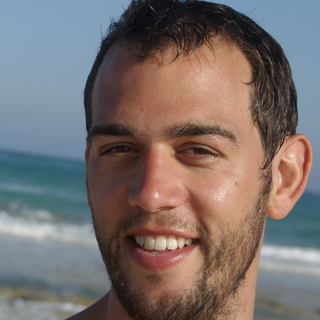eye: (176, 141, 226, 165), (99, 140, 143, 163)
